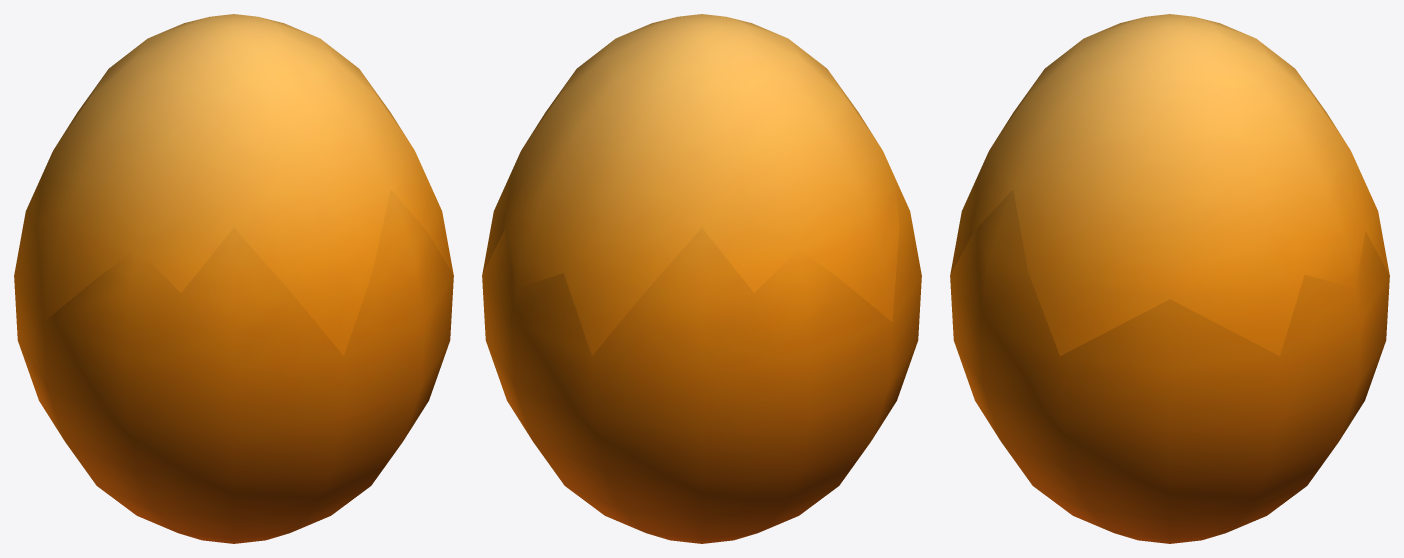
File: Egg.fbx
3 renders of one model, left to right at view 1: azimuth 30°, elevation 25°; view 2: azimuth 150°, elevation 25°; view 3: azimuth 270°, elevation 25°, orthographic.
Parts seen in each view (by area): view 1: Egg, Egg_top; view 2: Egg, Egg_top; view 3: Egg_top, Egg.
Boxes of the visible parts, x1,y1,x2,y2 form: Egg: (14, 179, 453, 543); Egg_top: (36, 14, 453, 355); Egg: (482, 179, 921, 543); Egg_top: (482, 14, 899, 355); Egg_top: (950, 14, 1389, 355); Egg: (950, 189, 1389, 543).
Bounding box in the file's own units: 1.57 × 1.99 × 1.57.
Materials: 1 (1 with a texture image).
